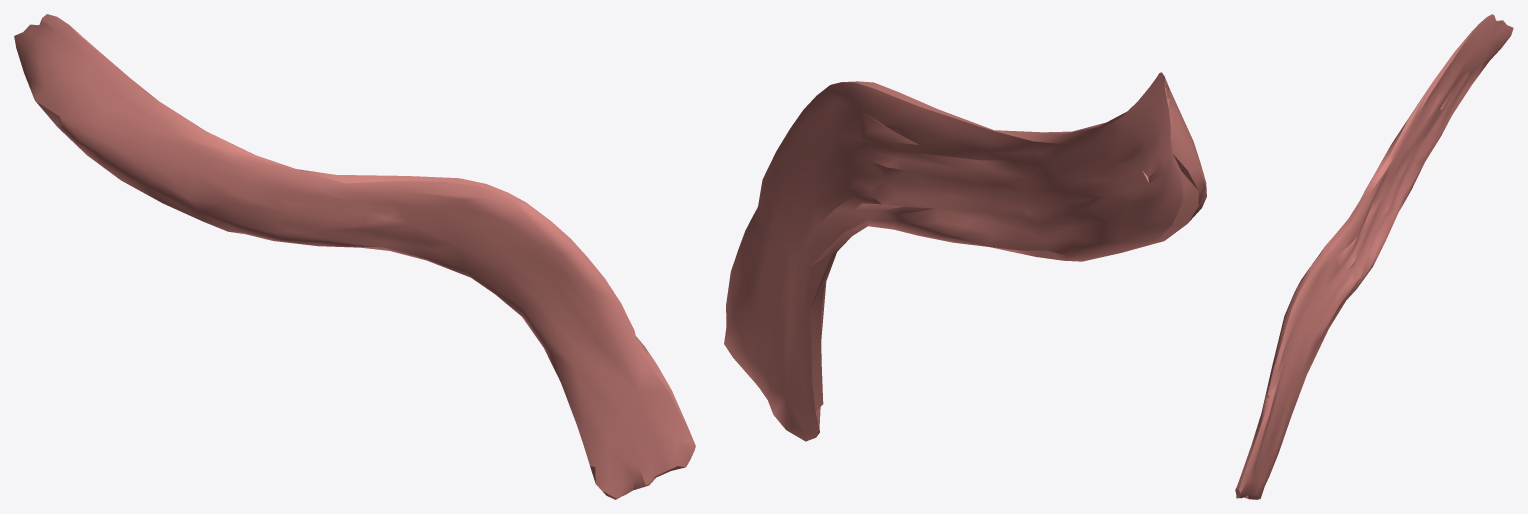
Rendered from fma46814_mm1122m.glb.
The picture shows the model from 3 angles, left to right: view 1: azimuth 30°, elevation 25°; view 2: azimuth 150°, elevation 25°; view 3: azimuth 270°, elevation 25°; orthographic projection. The views are drawn at different scales.
Parts seen in each view (by area): view 1: FMA46814_MM1122M; view 2: FMA46814_MM1122M; view 3: FMA46814_MM1122M.
Part boxes in pixels (x1=…): FMA46814_MM1122M: x1=14, y1=14, x2=695, y2=499; FMA46814_MM1122M: x1=724, y1=72, x2=1206, y2=441; FMA46814_MM1122M: x1=1235, y1=14, x2=1513, y2=499.
Bounding box in the file's own units: 0.0369 × 0.0333 × 0.0246.
